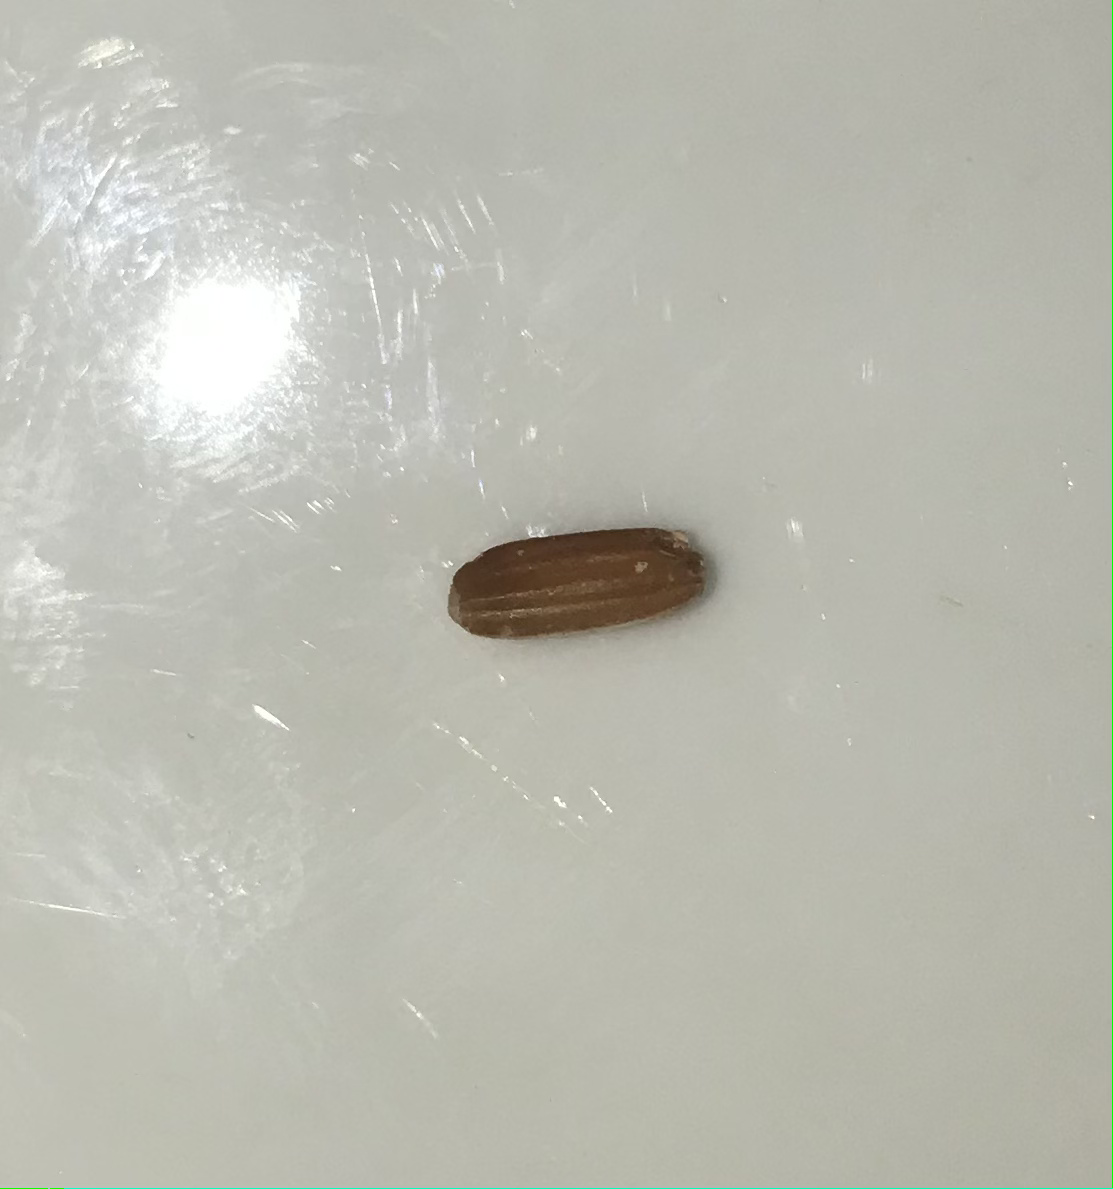Gao Lut Do: (425, 502, 733, 687)
